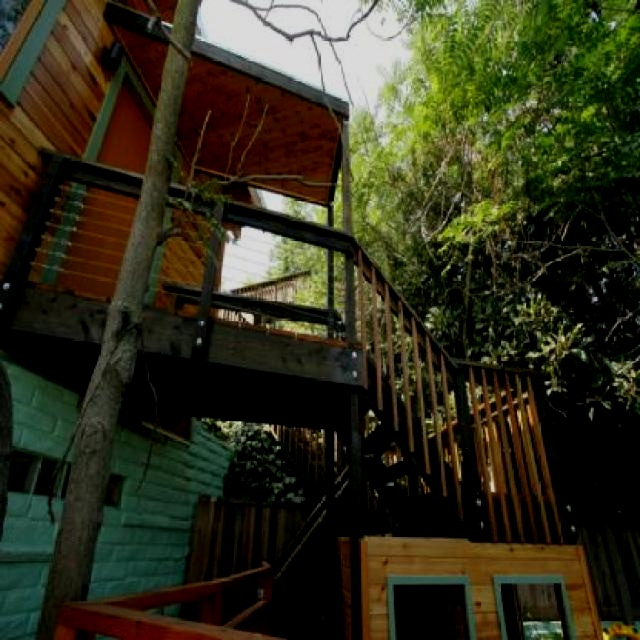stair: (0, 146, 577, 640), (219, 271, 335, 503)
